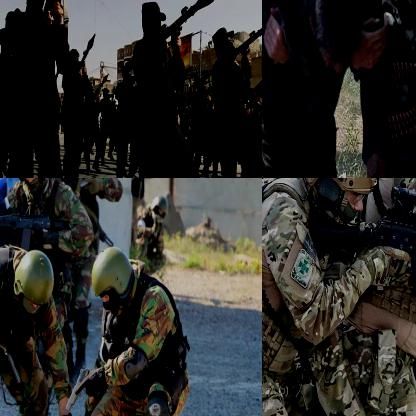pistol: (64, 368, 100, 414), (0, 346, 22, 388)
rifle: (302, 178, 415, 322), (191, 0, 261, 92), (153, 0, 233, 48), (0, 209, 72, 257), (41, 0, 90, 27), (74, 33, 98, 79), (90, 71, 111, 100)
